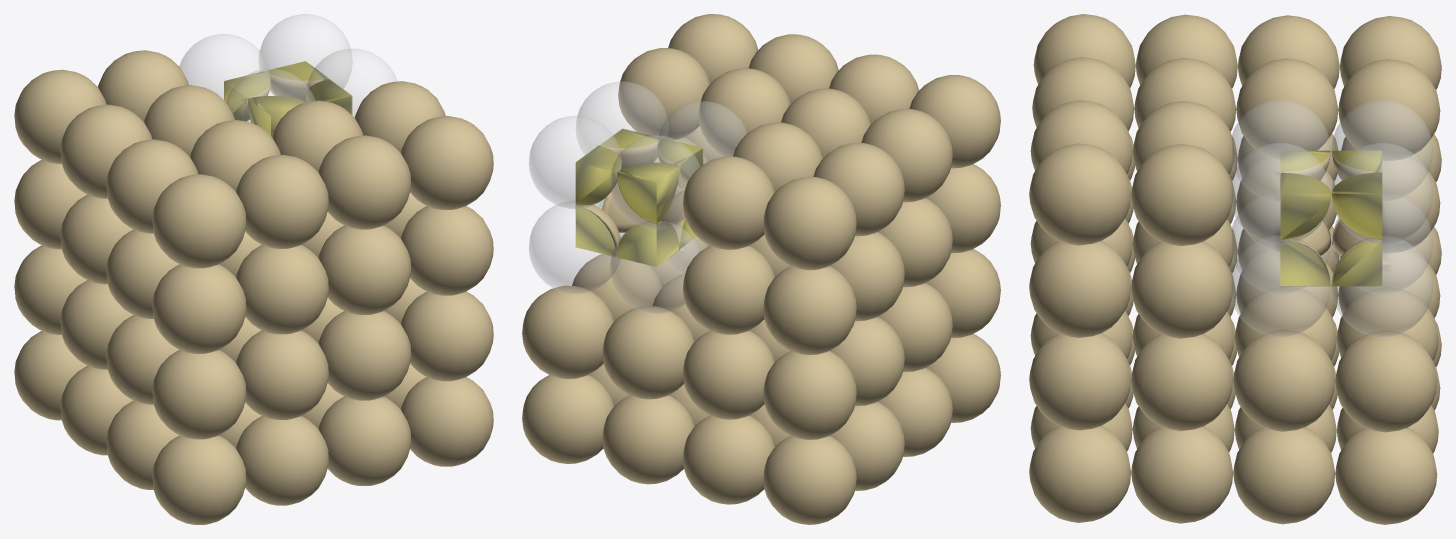
Rendered from cristal_cubique.glb.
3 views of the same model, side by side, from view 1: azimuth 30°, elevation 25°; view 2: azimuth 150°, elevation 25°; view 3: azimuth 270°, elevation 25° (orthographic). The views are drawn at different scales.
Visible parts, largest first — view 1: cristal, Sphere.001; view 2: cristal, Sphere.001; view 3: cristal, Sphere.001.
Boxes of the visible parts, bbox=[...] form: cristal: bbox=[14, 50, 493, 524]; Sphere.001: bbox=[179, 14, 396, 136]; cristal: bbox=[522, 14, 1000, 524]; Sphere.001: bbox=[529, 81, 746, 313]; cristal: bbox=[1029, 14, 1441, 524]; Sphere.001: bbox=[1231, 100, 1432, 336].
Bounding box in the file's own units: 4.04 × 4 × 4.04.
